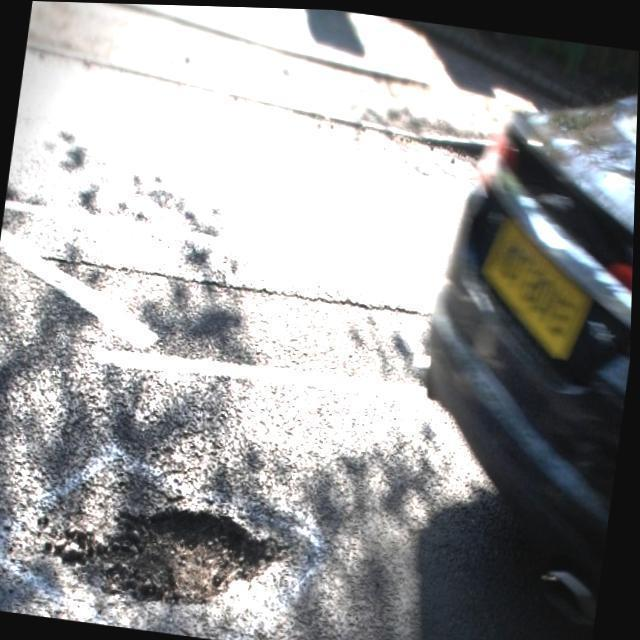Pothole: (65, 510, 282, 597)
